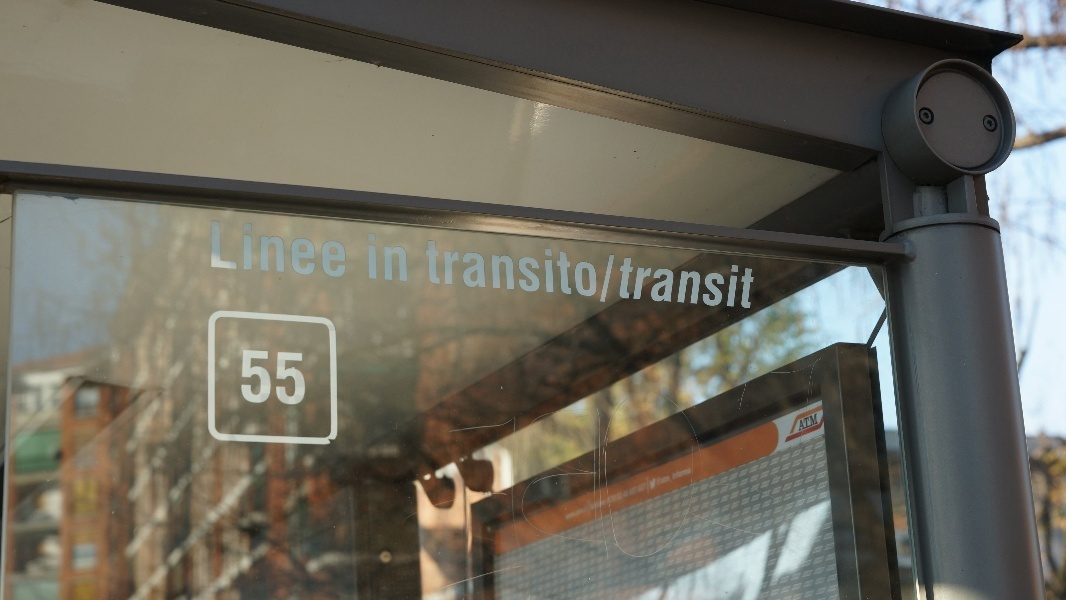text: (577, 461, 592, 523), (593, 461, 608, 523), (609, 461, 624, 523), (625, 461, 640, 523), (641, 461, 656, 523), (657, 461, 672, 523), (673, 461, 688, 523), (225, 218, 240, 279), (241, 218, 256, 279), (257, 218, 272, 279), (273, 218, 288, 279), (289, 218, 304, 279), (305, 218, 320, 279), (321, 218, 336, 279), (289, 350, 305, 406), (433, 240, 448, 299), (449, 240, 464, 299), (465, 240, 480, 299), (481, 240, 496, 299), (497, 240, 512, 299), (513, 240, 528, 299), (529, 240, 544, 299), (545, 240, 560, 299), (561, 240, 576, 299), (577, 240, 592, 299), (210, 218, 224, 279), (257, 350, 272, 406), (273, 350, 288, 406), (625, 258, 640, 310), (641, 258, 656, 310), (657, 258, 672, 310), (673, 258, 688, 310), (689, 258, 704, 310), (705, 258, 720, 310), (721, 258, 736, 310), (737, 258, 752, 310), (369, 231, 384, 282), (385, 231, 400, 282), (564, 461, 576, 523), (243, 350, 256, 406), (337, 218, 347, 279), (425, 240, 432, 299), (593, 240, 600, 299), (401, 231, 409, 282), (600, 255, 608, 303), (689, 461, 695, 523), (609, 255, 616, 303), (801, 414, 816, 432), (753, 258, 757, 310), (623, 258, 624, 310), (367, 231, 368, 282), (817, 414, 818, 432)
